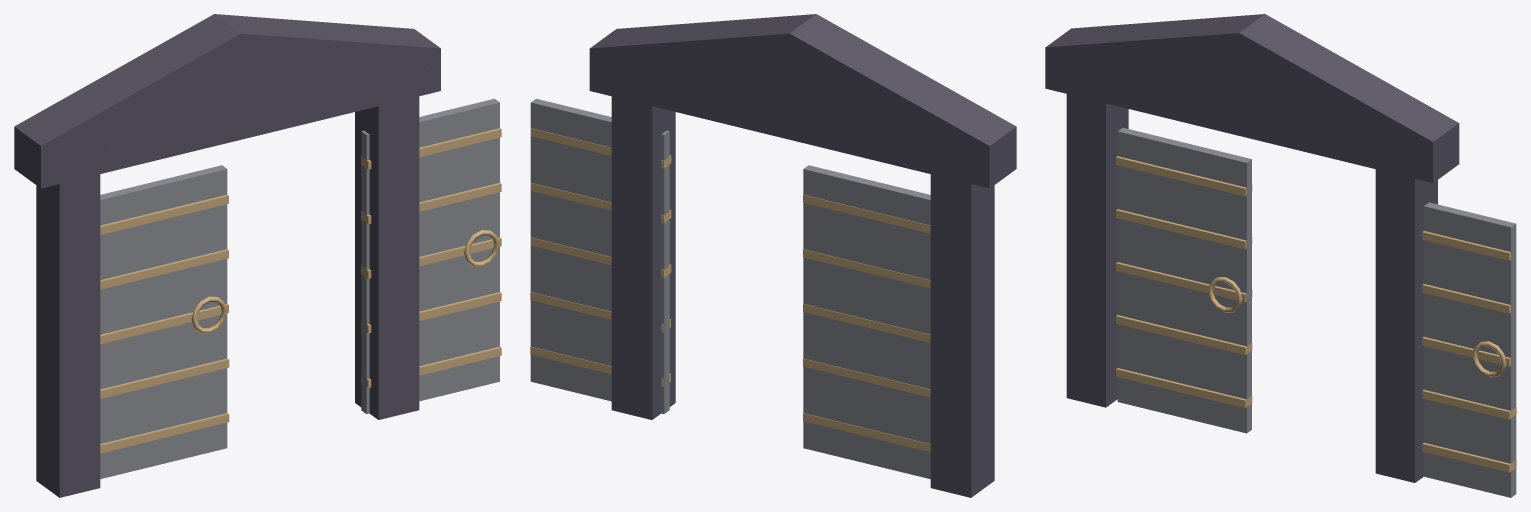
File: mythic-underworld-and-olympus-black-gate-04d47a94__21350.glb
3 views of the same model, side by side, from view 1: azimuth 30°, elevation 25°; view 2: azimuth 150°, elevation 25°; view 3: azimuth 330°, elevation 25° (orthographic). The views are drawn at different scales.
Parts seen in each view (by area): view 1: black-gate, gate-left (×2), gate-right (×2); view 2: black-gate, gate-left (×2), gate-right (×2); view 3: black-gate, gate-left (×2), gate-right (×2).
Boxes of the visible parts, bbox=[...] form: black-gate: bbox=[14, 14, 440, 497]; gate-left (×2): bbox=[100, 165, 229, 478]; gate-right (×2): bbox=[361, 98, 501, 414]; black-gate: bbox=[589, 14, 1016, 497]; gate-left (×2): bbox=[803, 165, 930, 479]; gate-right (×2): bbox=[530, 98, 671, 413]; black-gate: bbox=[1045, 14, 1459, 482]; gate-left (×2): bbox=[1116, 127, 1252, 433]; gate-right (×2): bbox=[1422, 202, 1516, 497].
Bounding box in the file's own units: 8.1 × 6.95 × 1.24.
